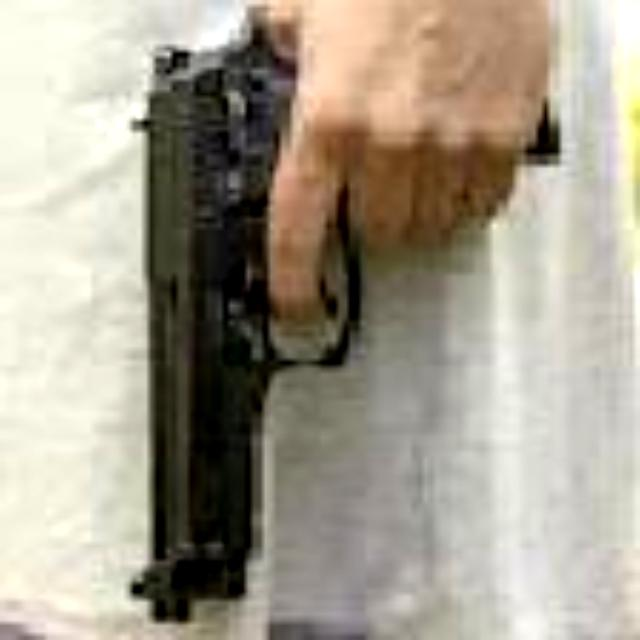pistol: (130, 0, 568, 640)
